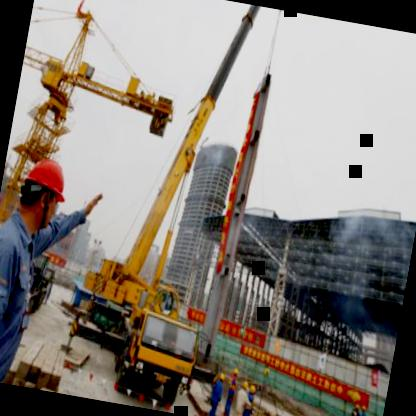helmet: (9, 148, 77, 236)
